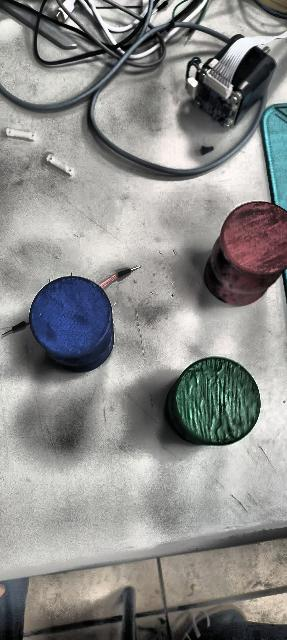blue: (29, 274, 115, 372)
green: (165, 356, 262, 446)
red: (200, 199, 287, 303)
